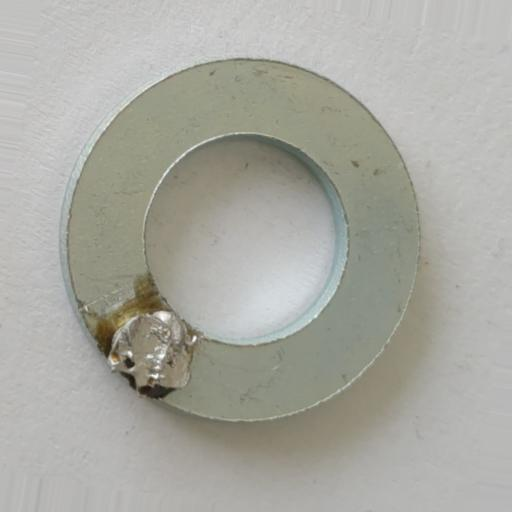excess_material: (108, 310, 198, 397)
